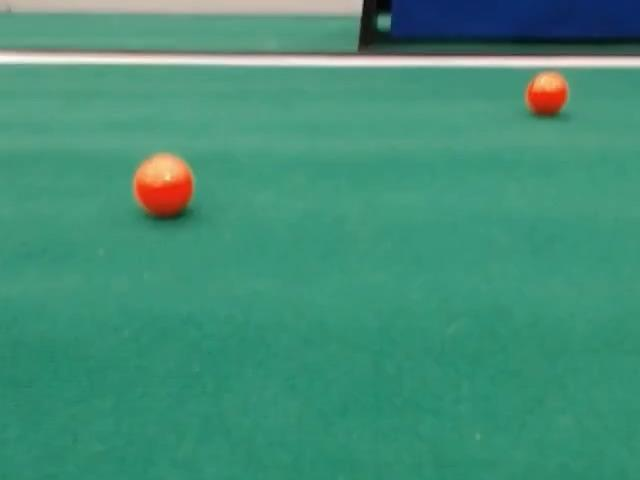Ball: (133, 153, 193, 217), (525, 71, 568, 116)
